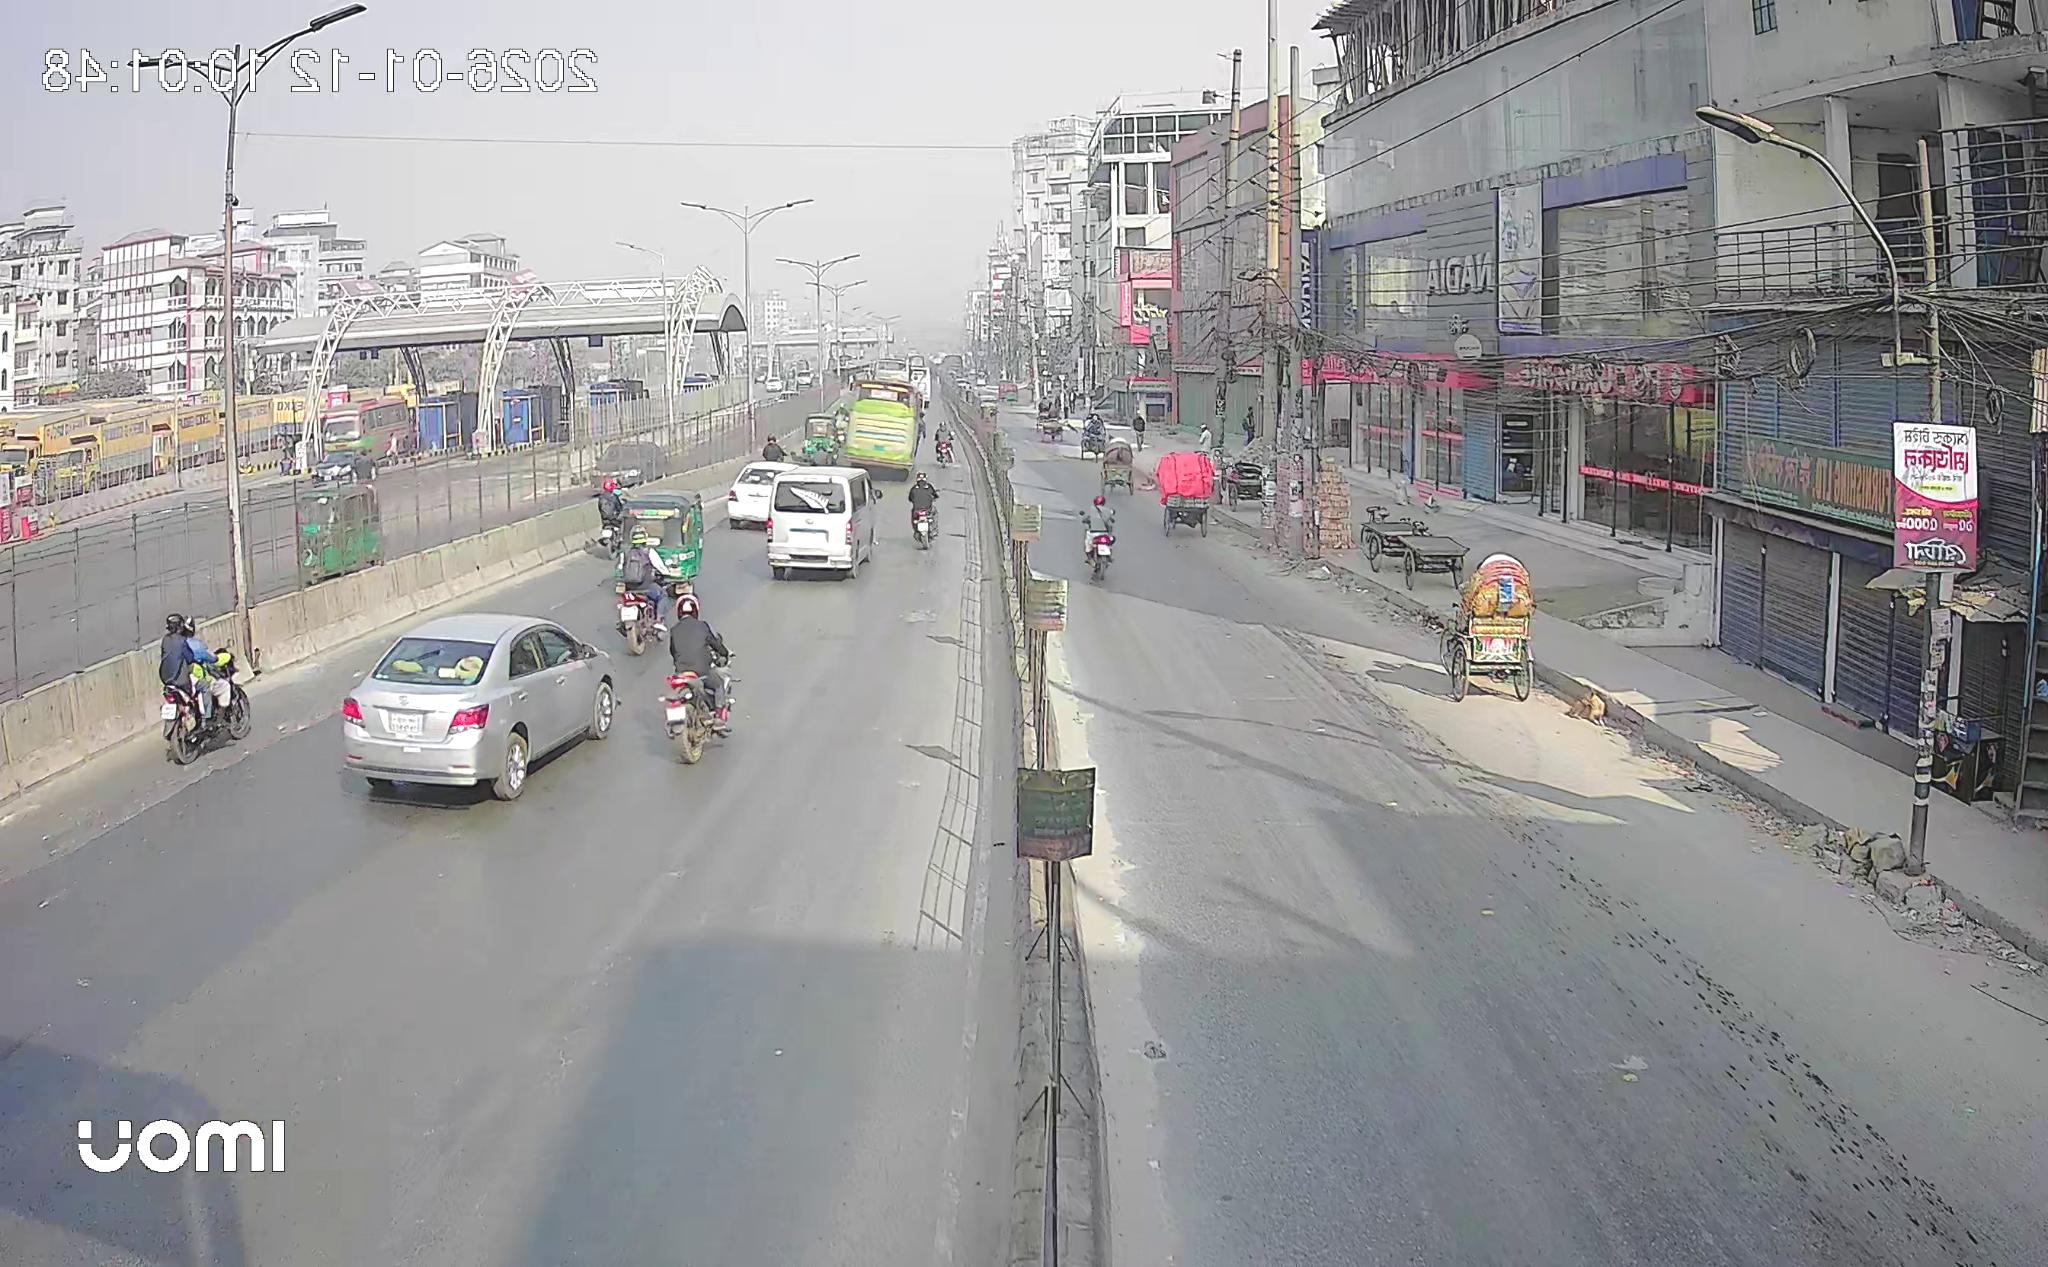Bus: (838, 379, 919, 480)
CNG-Tempo: (297, 484, 383, 584), (620, 490, 704, 581), (803, 414, 846, 465)
Cycle Rickshaw: (1439, 554, 1535, 699), (1103, 442, 1135, 493)
Microbus: (767, 467, 881, 579)
Motorcycle: (159, 613, 250, 764), (664, 595, 730, 764), (619, 527, 677, 653), (1083, 495, 1118, 579), (594, 487, 630, 552), (908, 473, 938, 549)
Private-Sedan Car: (341, 613, 619, 800), (729, 462, 793, 527)
